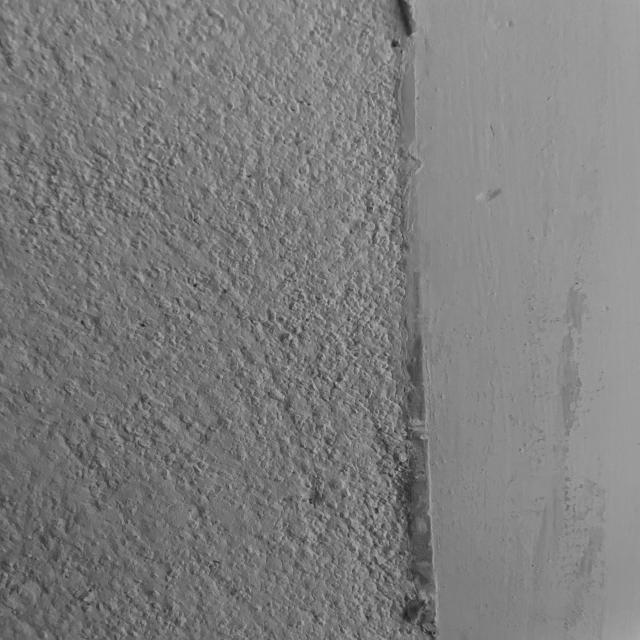rough and patchy surface: (1, 1, 433, 640)
